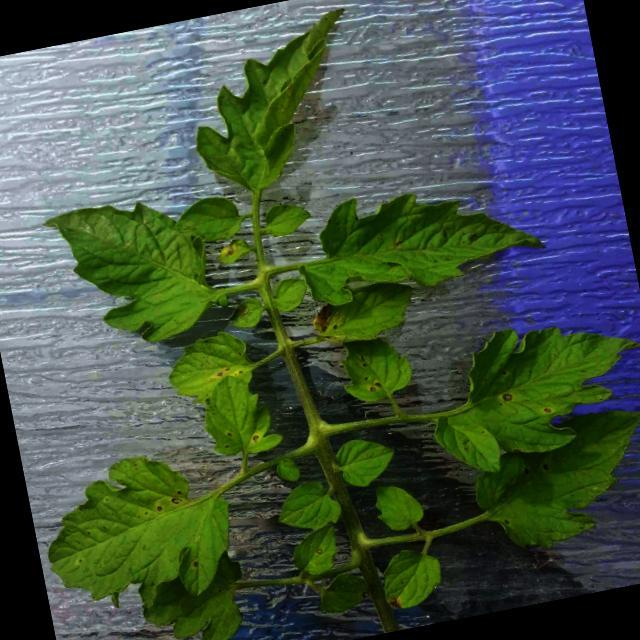Tomato Septoria spot leaf: (416, 302, 640, 483), (32, 437, 247, 624), (288, 162, 552, 312), (462, 402, 640, 559), (196, 364, 290, 464), (305, 272, 422, 352), (162, 325, 268, 403), (332, 322, 419, 409), (288, 524, 344, 580), (315, 568, 374, 618)
Tomato healthy leaf: (40, 186, 224, 360), (272, 472, 344, 536), (332, 431, 402, 492), (369, 478, 428, 536), (262, 198, 316, 240)
